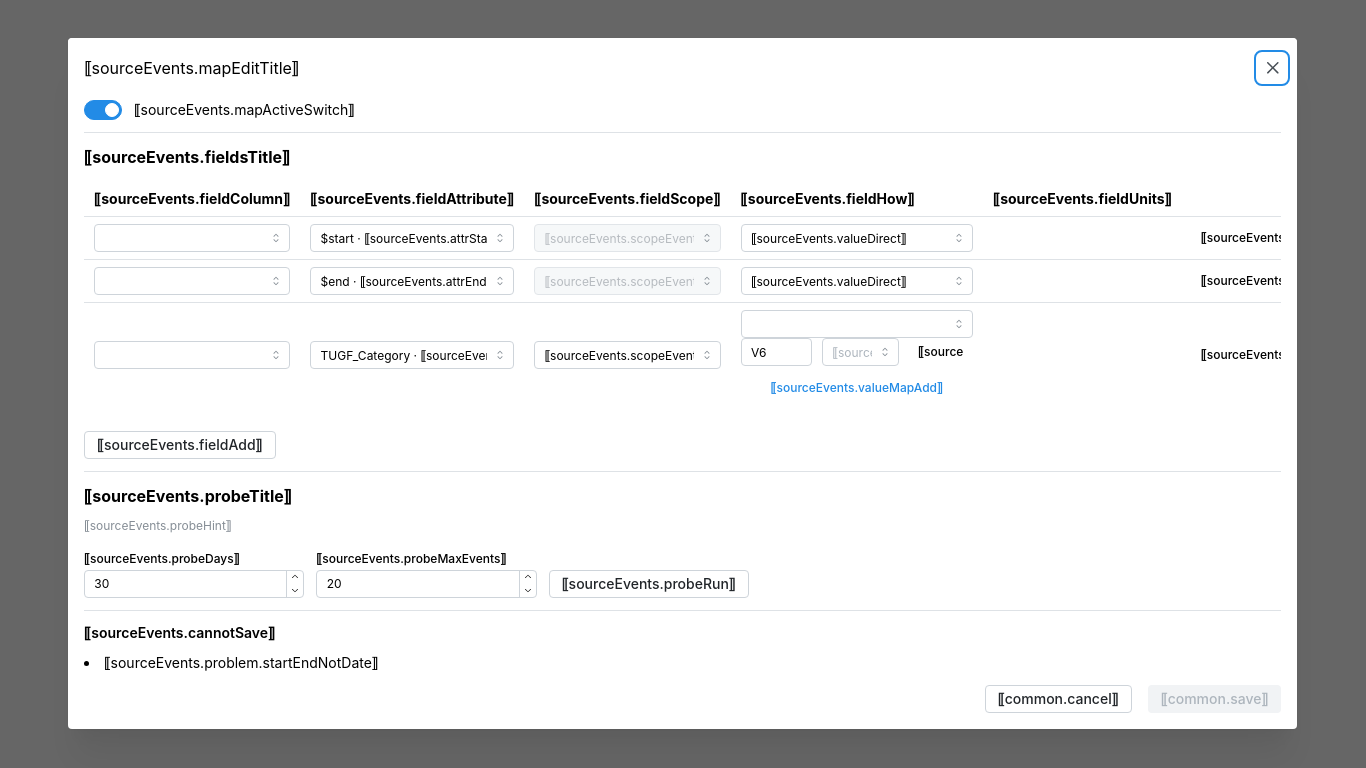
Test: SourceEventMapModal › проба: шаблон сутності й атрибути мапінгу; незіставлене значення PI — у таблицю відповідностей одним кліком
(page scrolled)
Click the button "⟦sourceEvents.probeRun⟧" at [649, 584], box [549,570,749,598]
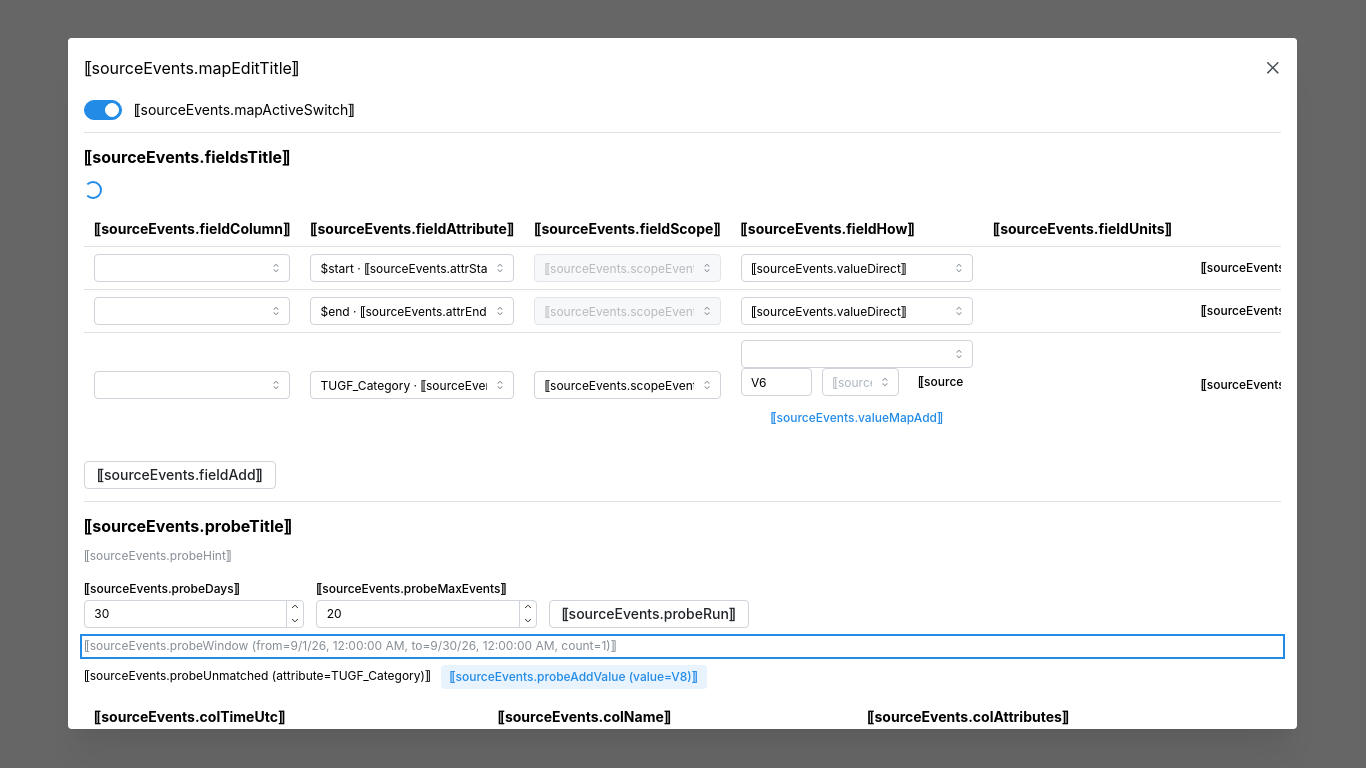
Click the button "⟦sourceEvents.probeAddValue (value=V8)⟧" at [574, 677], box [441,665,707,689]
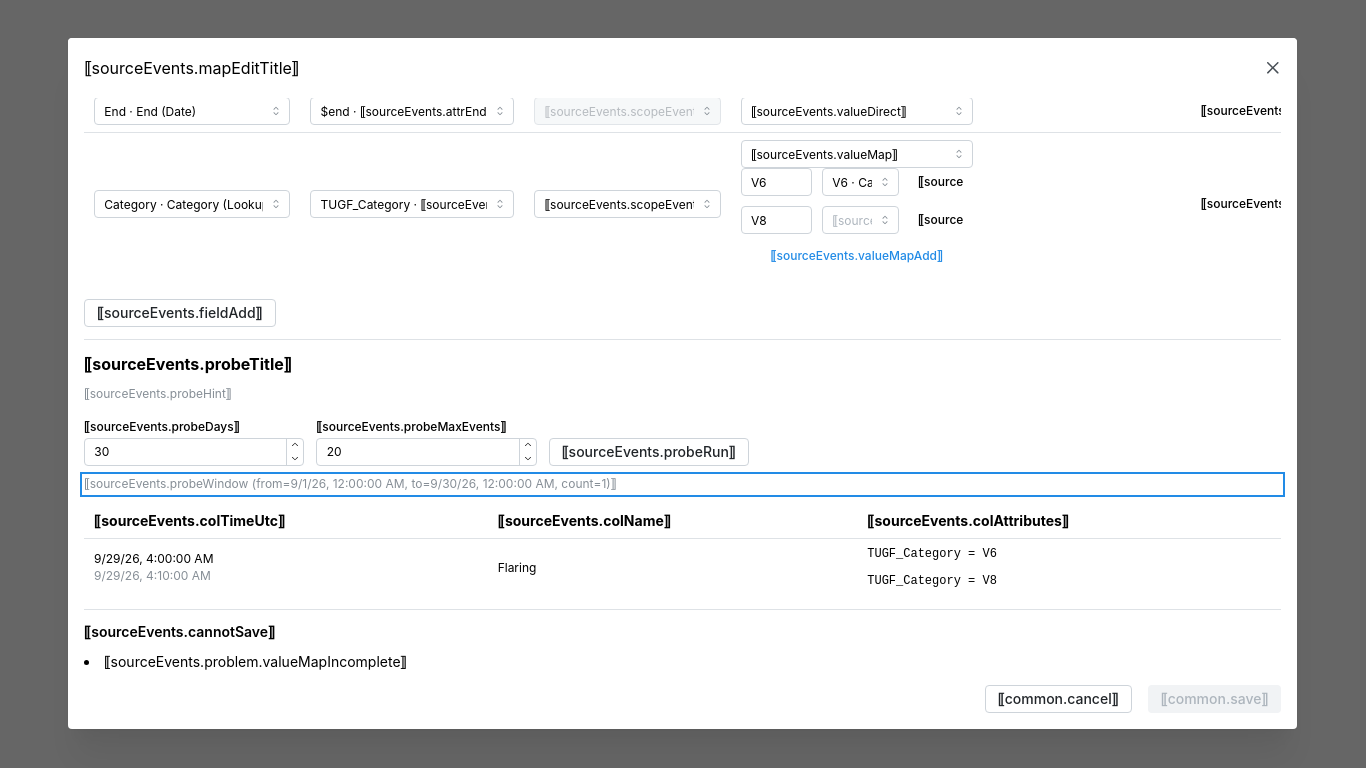
Expected: the list item "⟦sourceEvents.problem.valueMapIncomplete⟧" is shown, [104,654,407,671]
